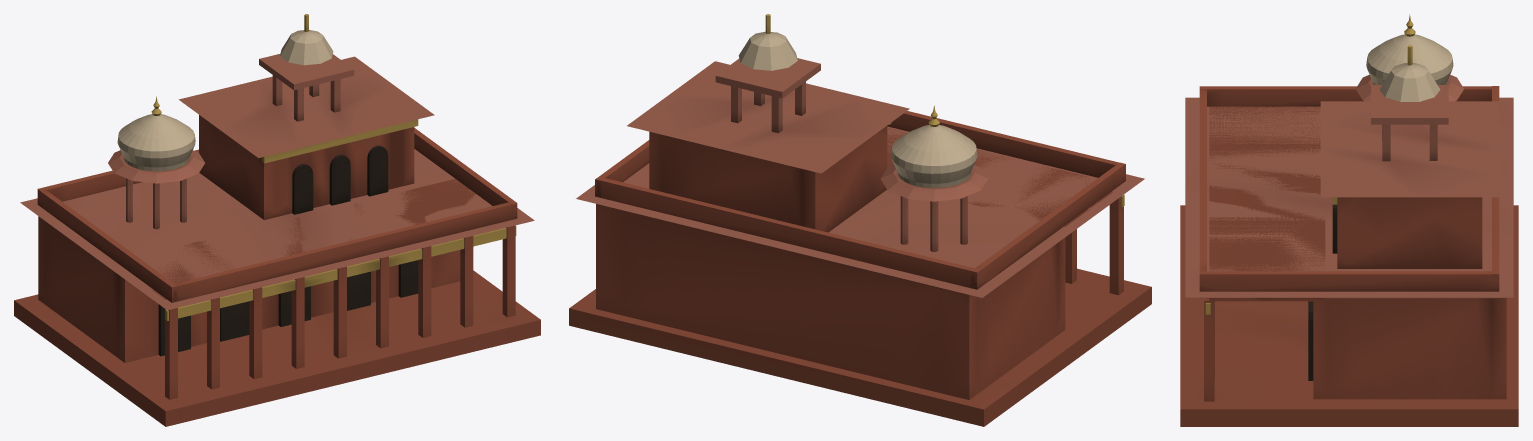
Rendered from mariam-house.glb.
3 views of the same model, side by side, from view 1: azimuth 30°, elevation 25°; view 2: azimuth 150°, elevation 25°; view 3: azimuth 270°, elevation 25° (orthographic). The views are drawn at different scales.
Visible parts, largest first — view 1: p0_house, p1_upper room, p2_kiosk; view 2: p0_house, p1_upper room, p2_kiosk; view 3: p0_house, p1_upper room, p2_kiosk.
Part boxes in pixels (left/top/right/bottom): p0_house: left=14, top=128, right=540, bottom=426; p1_upper room: left=178, top=56, right=434, bottom=219; p2_kiosk: left=108, top=14, right=354, bottom=229; p0_house: left=569, top=111, right=1151, bottom=426; p1_upper room: left=627, top=61, right=909, bottom=232; p2_kiosk: left=715, top=14, right=987, bottom=251; p0_house: left=1180, top=86, right=1518, bottom=426; p1_upper room: left=1320, top=101, right=1499, bottom=268; p2_kiosk: left=1356, top=14, right=1463, bottom=161.
Size of the model in its own units: 20 by 14.12 by 14.
